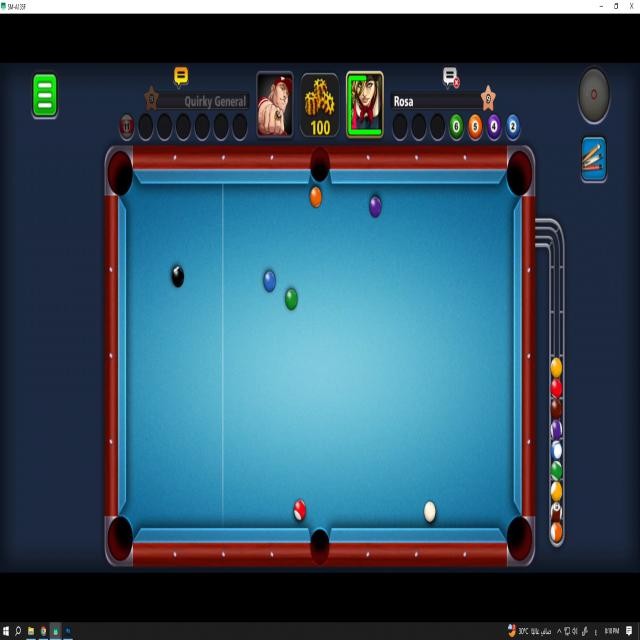object_ball: (264, 271, 276, 293), (369, 197, 381, 218), (310, 187, 322, 208), (286, 289, 297, 310), (172, 266, 183, 287), (294, 500, 305, 520)
white_cue_ball: (424, 501, 435, 522)
